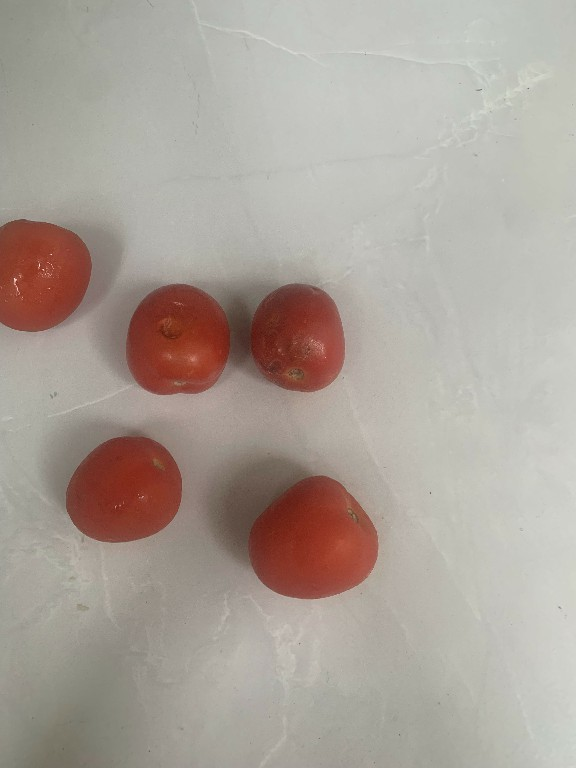NG: (116, 273, 237, 403), (244, 274, 348, 399)
OK: (241, 463, 378, 607), (56, 430, 185, 543), (0, 205, 98, 340)
